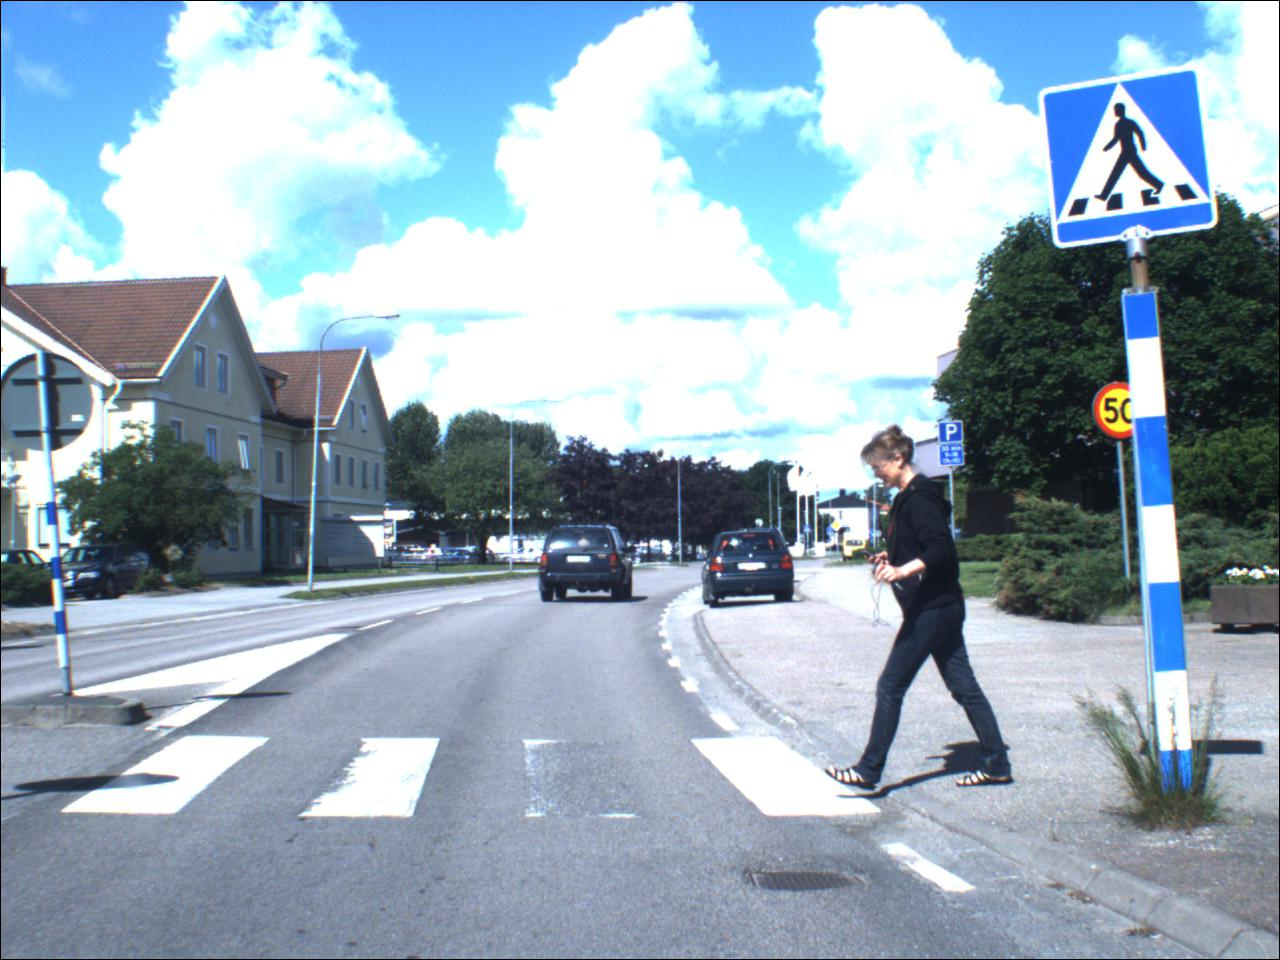50_SIGN: (1085, 384, 1158, 445)
PEDESTRIAN_CROSSING: (1041, 68, 1220, 247)
